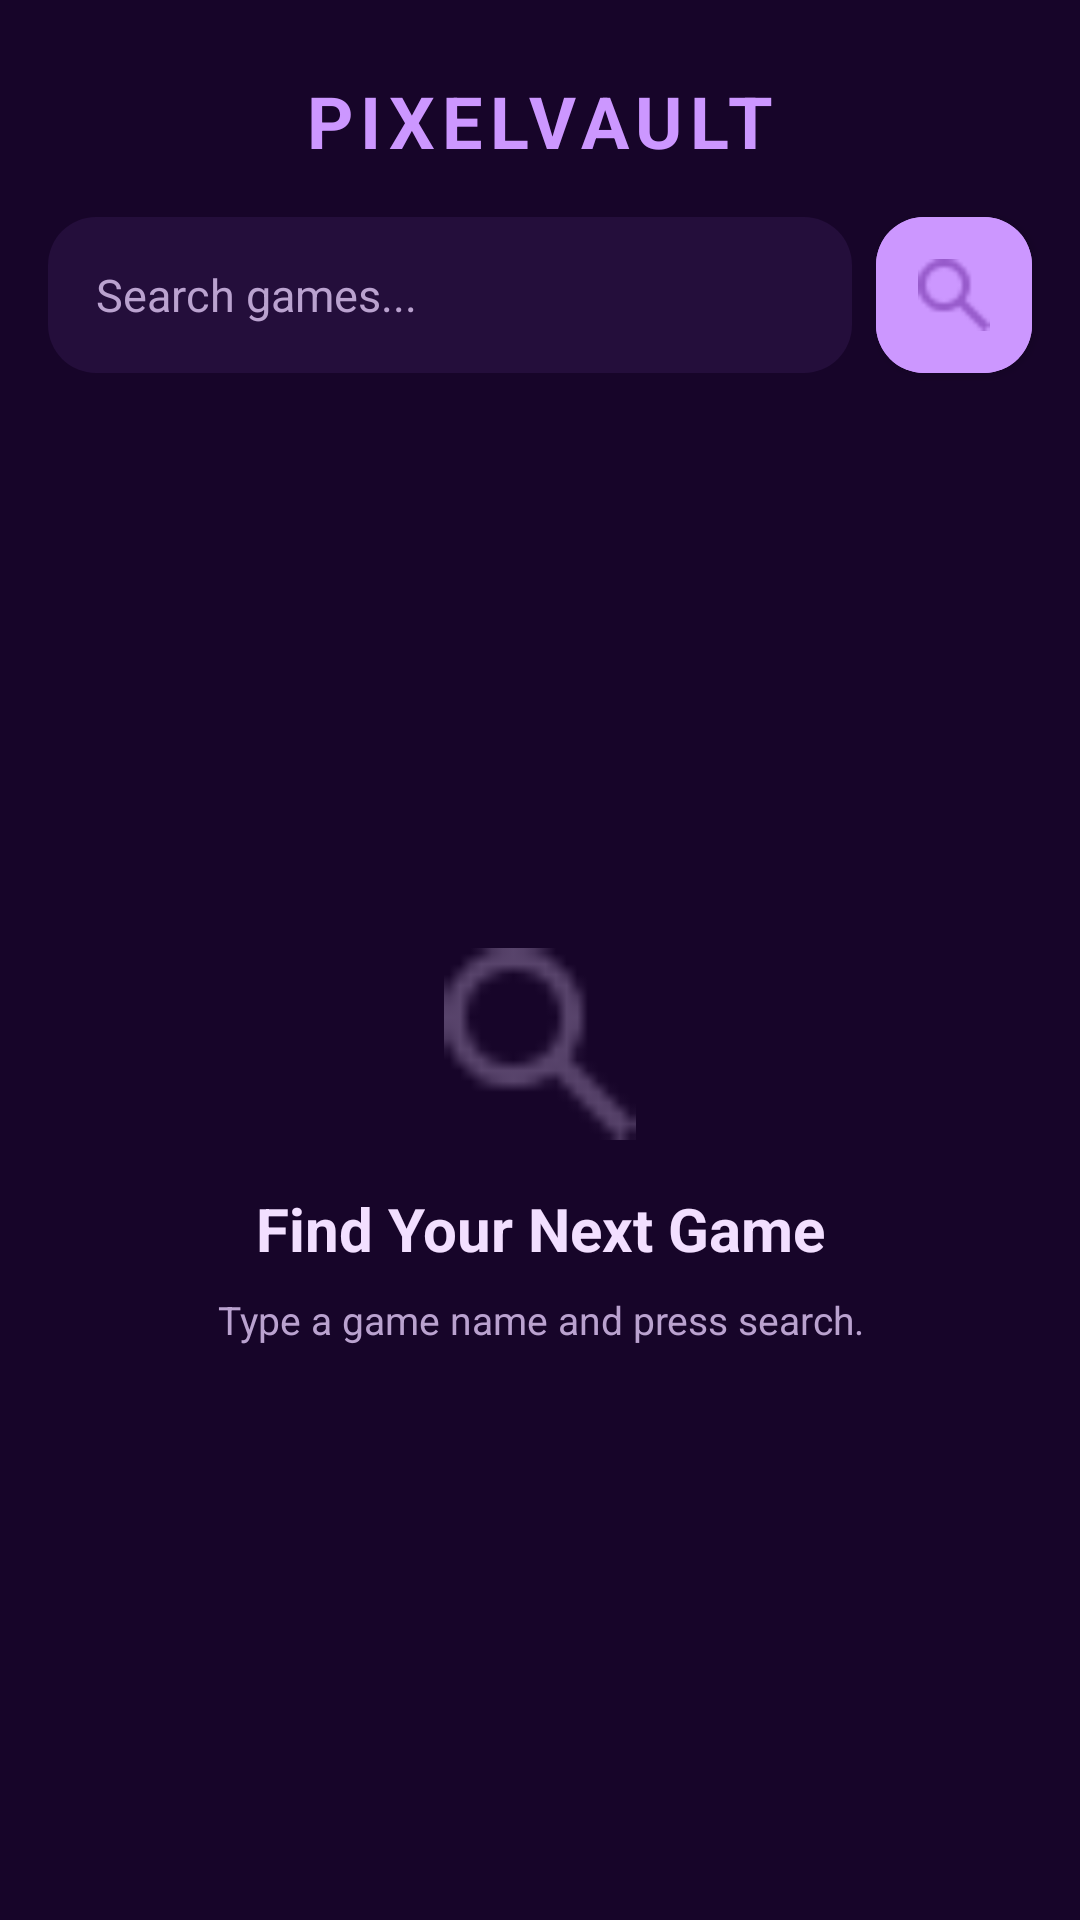

Icon bounding boxes for this 1080×1920 phone screenshot, format Rect(x1, y1, x2, y2):
Search icon: Rect(444, 948, 636, 1140)
